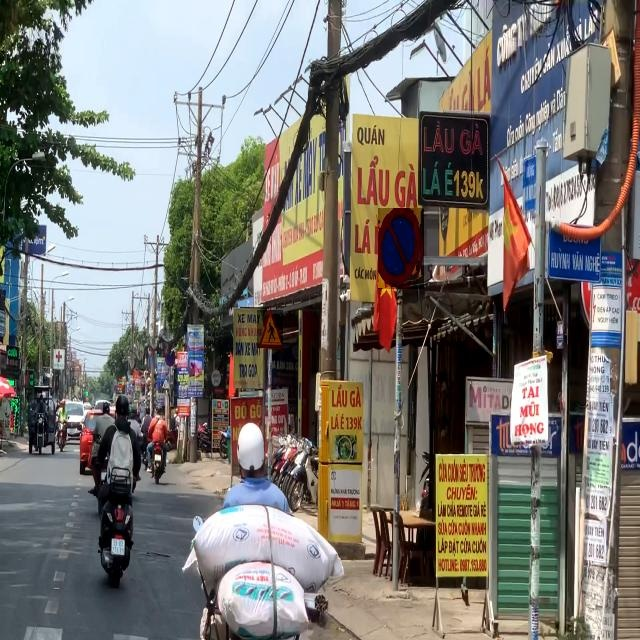bien_nguy_hiem: (378, 208, 424, 289), (257, 310, 283, 348)
